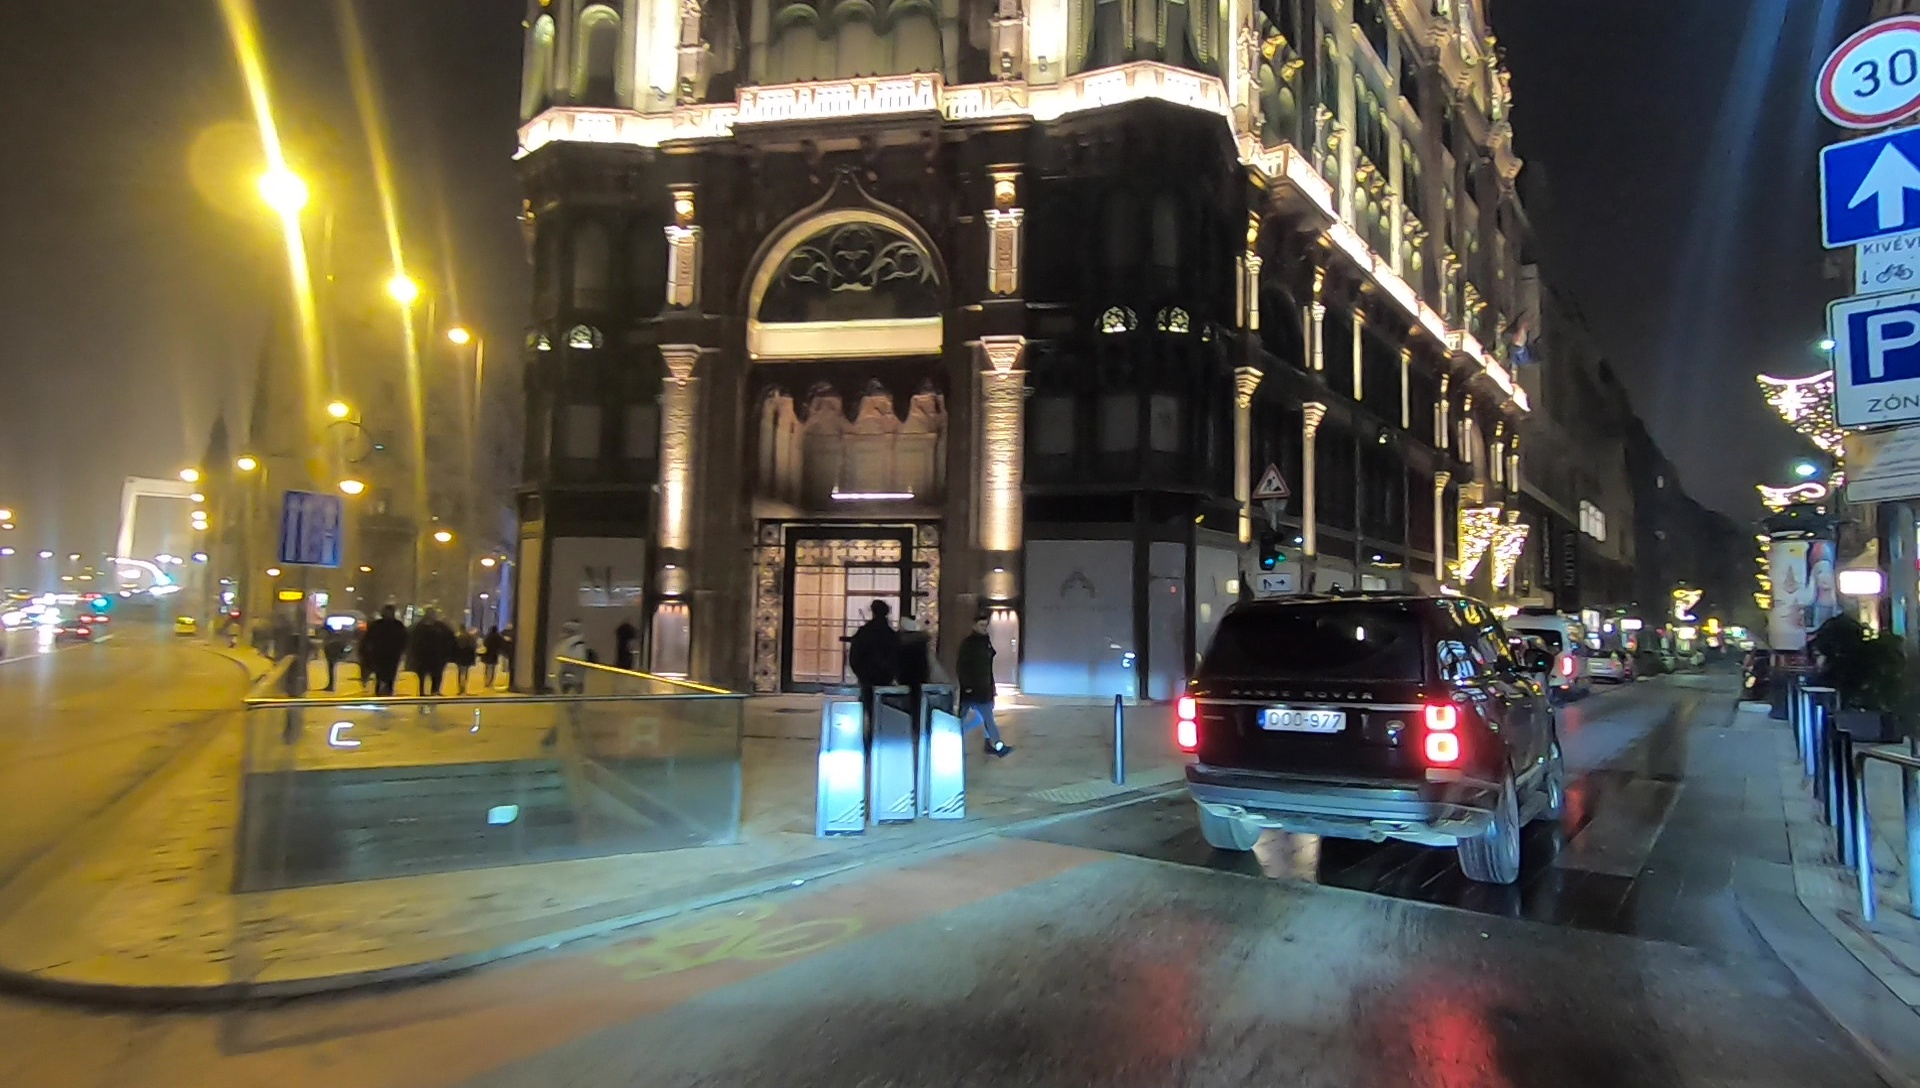person: (952, 613, 1010, 759), (847, 597, 898, 759), (546, 617, 596, 748), (894, 612, 936, 761), (412, 608, 451, 710), (371, 604, 406, 711), (612, 617, 641, 719), (318, 622, 348, 693), (452, 621, 474, 696), (480, 621, 503, 689)
